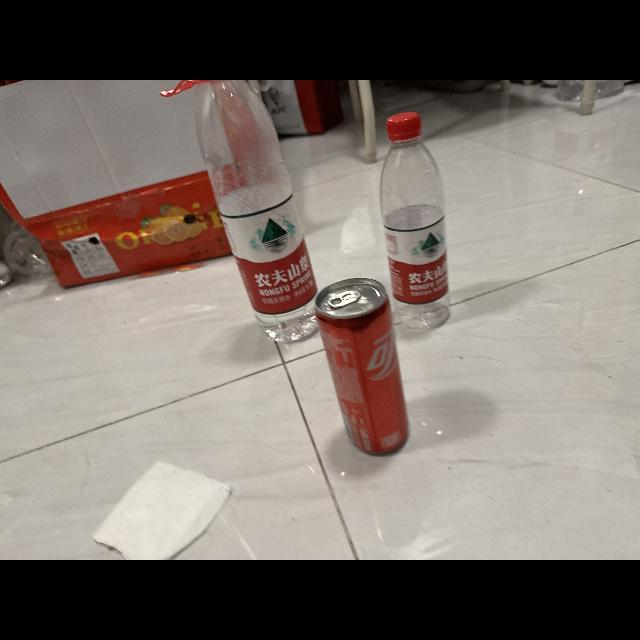Cola: (308, 274, 424, 461)
